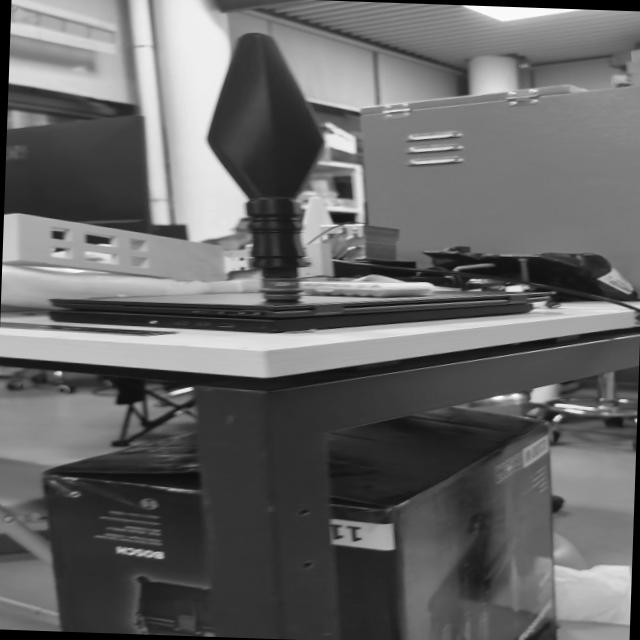base: (259, 276, 303, 300)
